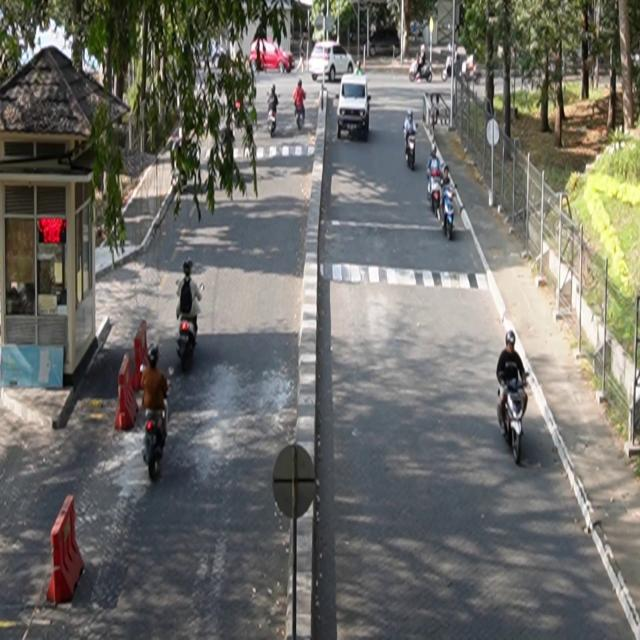car: (310, 41, 356, 83)
